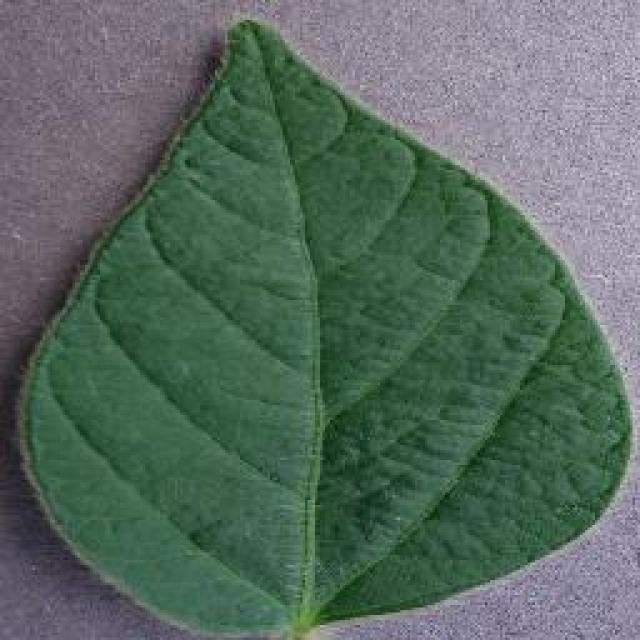Soy_healthy: (50, 84, 525, 573)
